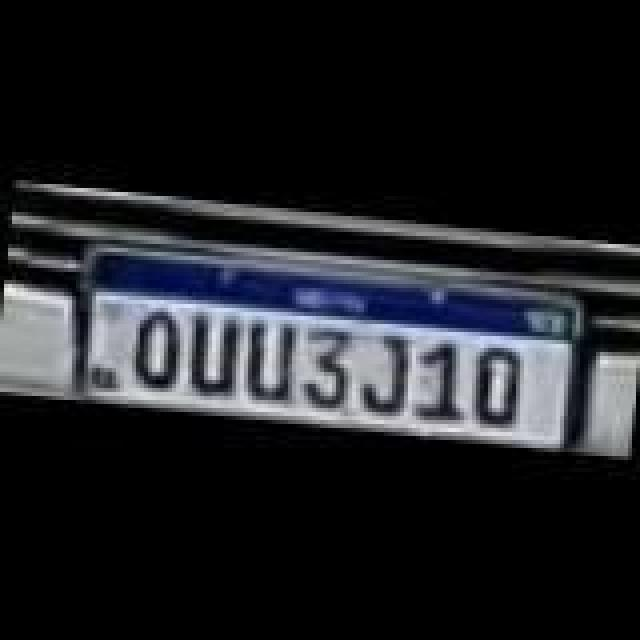1: (414, 336, 474, 424)
3: (300, 324, 356, 412)
D: (466, 342, 526, 426)
J: (354, 332, 414, 420)
O: (128, 308, 184, 396)
U: (186, 306, 246, 398), (242, 316, 302, 404)
